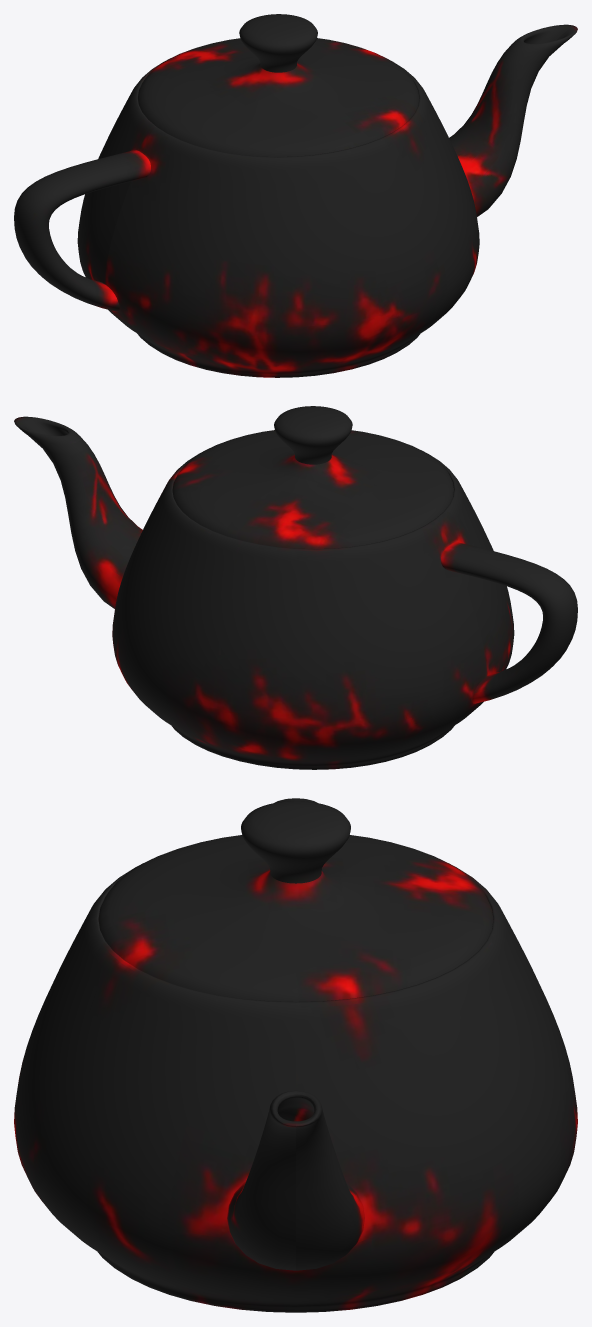
The model's file is frame_0004.glb.
3 views of the same model, one above another, from view 1: azimuth 30°, elevation 25°; view 2: azimuth 150°, elevation 25°; view 3: azimuth 270°, elevation 25° (orthographic). The views are drawn at different scales.
Visible parts, largest first — view 1: world; view 2: world; view 3: world.
Part boxes in pixels (bbox=[...]): world: bbox=[14, 14, 577, 377]; world: bbox=[14, 406, 577, 769]; world: bbox=[14, 798, 577, 1312].
Bounding box in the file's own units: 1 × 0.5124 × 0.6217.
Materials: 1 (1 with a texture image).
